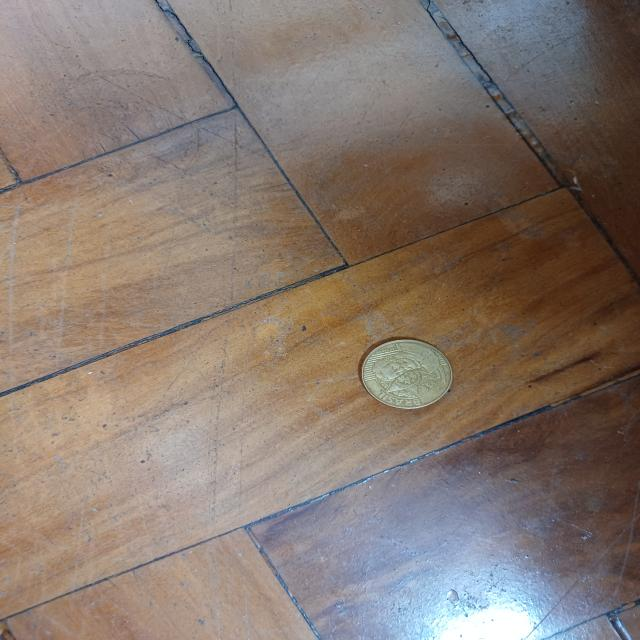25 cents: (359, 334, 461, 408)
